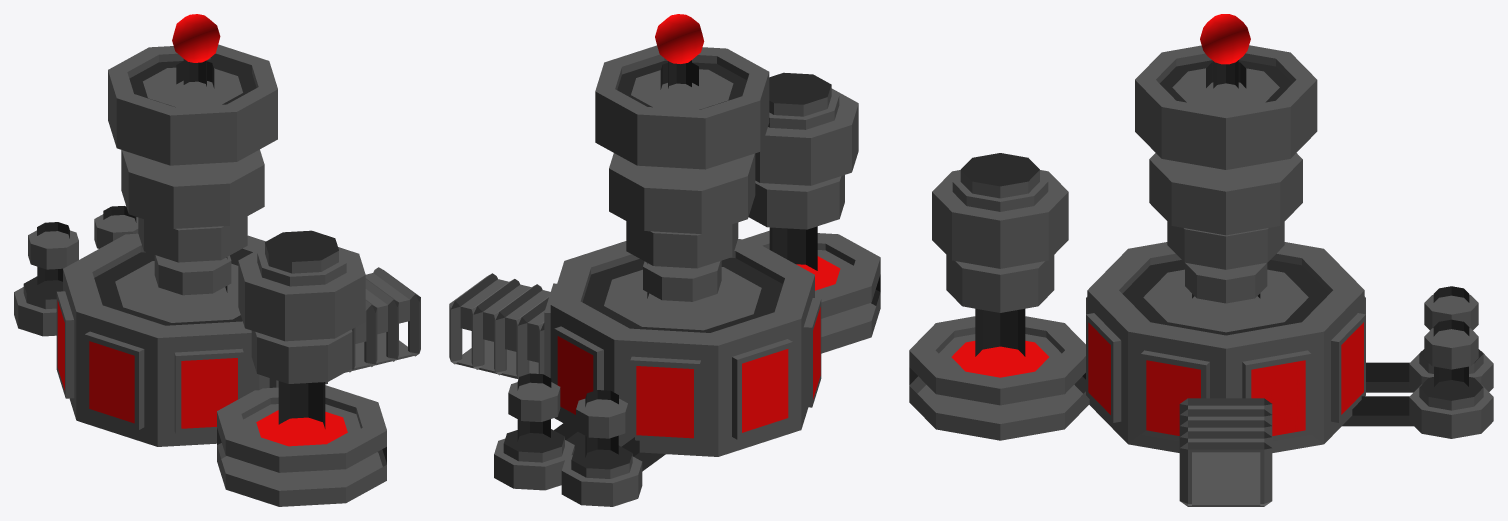
The model's file is enemy_bild_03.FBX.
3 renders of one model, left to right at view 1: azimuth 30°, elevation 25°; view 2: azimuth 150°, elevation 25°; view 3: azimuth 270°, elevation 25°, orthographic. The views are drawn at different scales.
Parts seen in each view (by area): view 1: enemy_bilding_03; view 2: enemy_bilding_03; view 3: enemy_bilding_03.
Part boxes in pixels (box(x1,y1,x2,y2)): enemy_bilding_03: box(14, 14, 420, 506); enemy_bilding_03: box(449, 14, 880, 506); enemy_bilding_03: box(909, 14, 1493, 506).
Bounding box in the file's own units: 1604 × 1763 × 2398.
